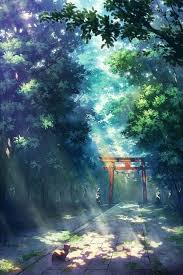forest: (1, 3, 183, 221)
tree: (2, 2, 74, 215), (111, 1, 183, 213)
